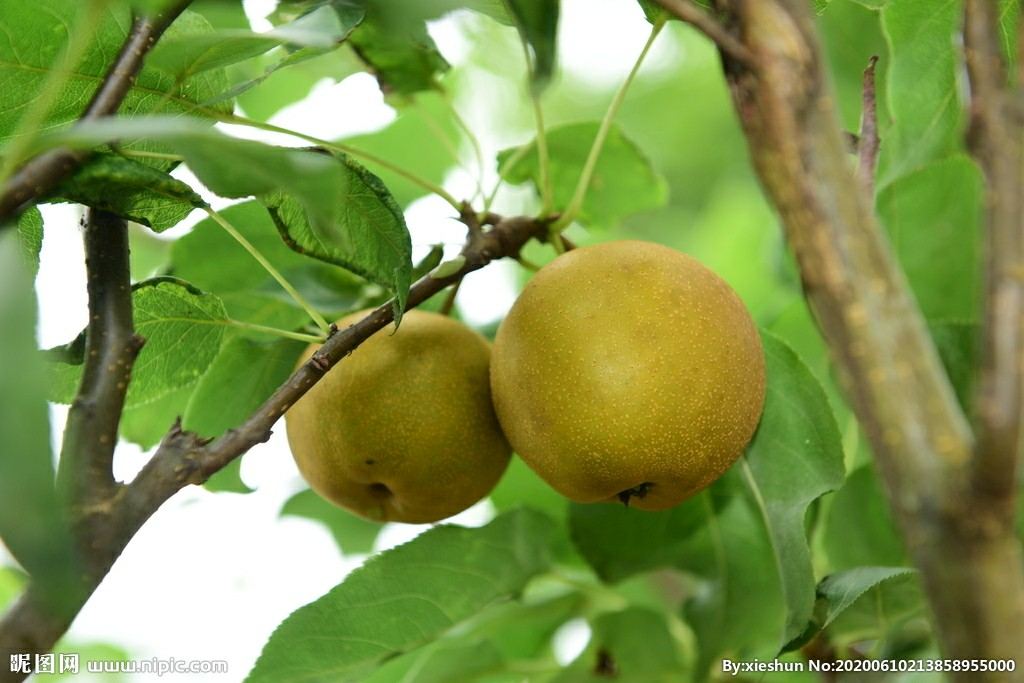pear: (491, 239, 764, 508), (284, 308, 517, 525)
